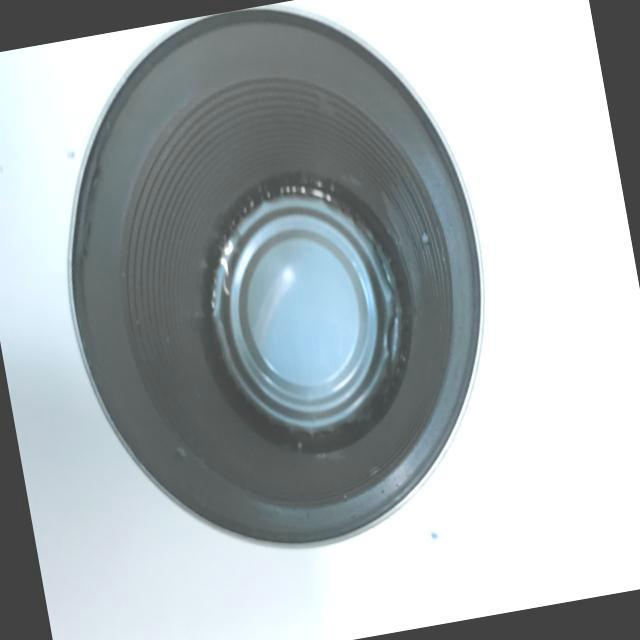metal: (0, 0, 539, 622)
